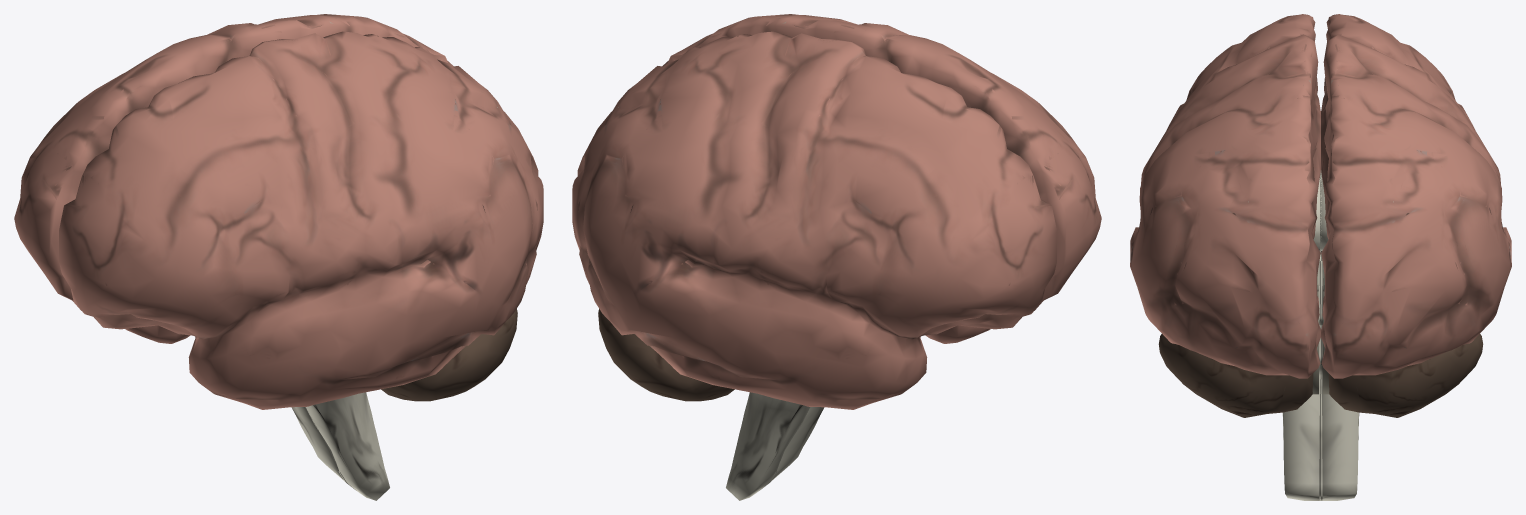
The model's file is Cerebro.glb.
3 views of the same model, side by side, from view 1: azimuth 30°, elevation 25°; view 2: azimuth 150°, elevation 25°; view 3: azimuth 270°, elevation 25° (orthographic). The views are drawn at different scales.
Visible parts, largest first — view 1: ei_cerebro, ed_cerebro, ei_tronco_encefalico, ei_cerebelo, ed_tronco_encefalico; view 2: ed_cerebro, ei_cerebro, ed_tronco_encefalico, ed_cerebelo.001, ei_tronco_encefalico; view 3: ed_cerebro, ei_cerebro, ed_cerebelo.001, ei_cerebelo, ei_tronco_encefalico, ed_tronco_encefalico, ed_cuerpo_calloso.
Part boxes in pixels (bbox=[...]): ei_cerebro: bbox=[59, 31, 543, 409]; ed_cerebro: bbox=[14, 14, 453, 343]; ei_tronco_encefalico: bbox=[305, 392, 389, 500]; ei_cerebelo: bbox=[381, 309, 517, 401]; ed_tronco_encefalico: bbox=[291, 407, 356, 490]; ed_cerebro: bbox=[572, 31, 1056, 409]; ei_cerebro: bbox=[662, 14, 1101, 343]; ed_tronco_encefalico: bbox=[726, 392, 810, 500]; ed_cerebelo.001: bbox=[598, 309, 734, 401]; ei_tronco_encefalico: bbox=[759, 407, 824, 490]; ed_cerebro: bbox=[1321, 14, 1511, 378]; ei_cerebro: bbox=[1130, 14, 1320, 378]; ed_cerebelo.001: bbox=[1323, 270, 1483, 417]; ei_cerebelo: bbox=[1158, 270, 1318, 417]; ei_tronco_encefalico: bbox=[1282, 254, 1322, 500]; ed_tronco_encefalico: bbox=[1319, 254, 1359, 500]; ed_cuerpo_calloso: bbox=[1320, 170, 1328, 250].
Bounding box in the file's own units: 0.1492 × 0.1473 × 0.1212.
10 materials, 10 textured.
